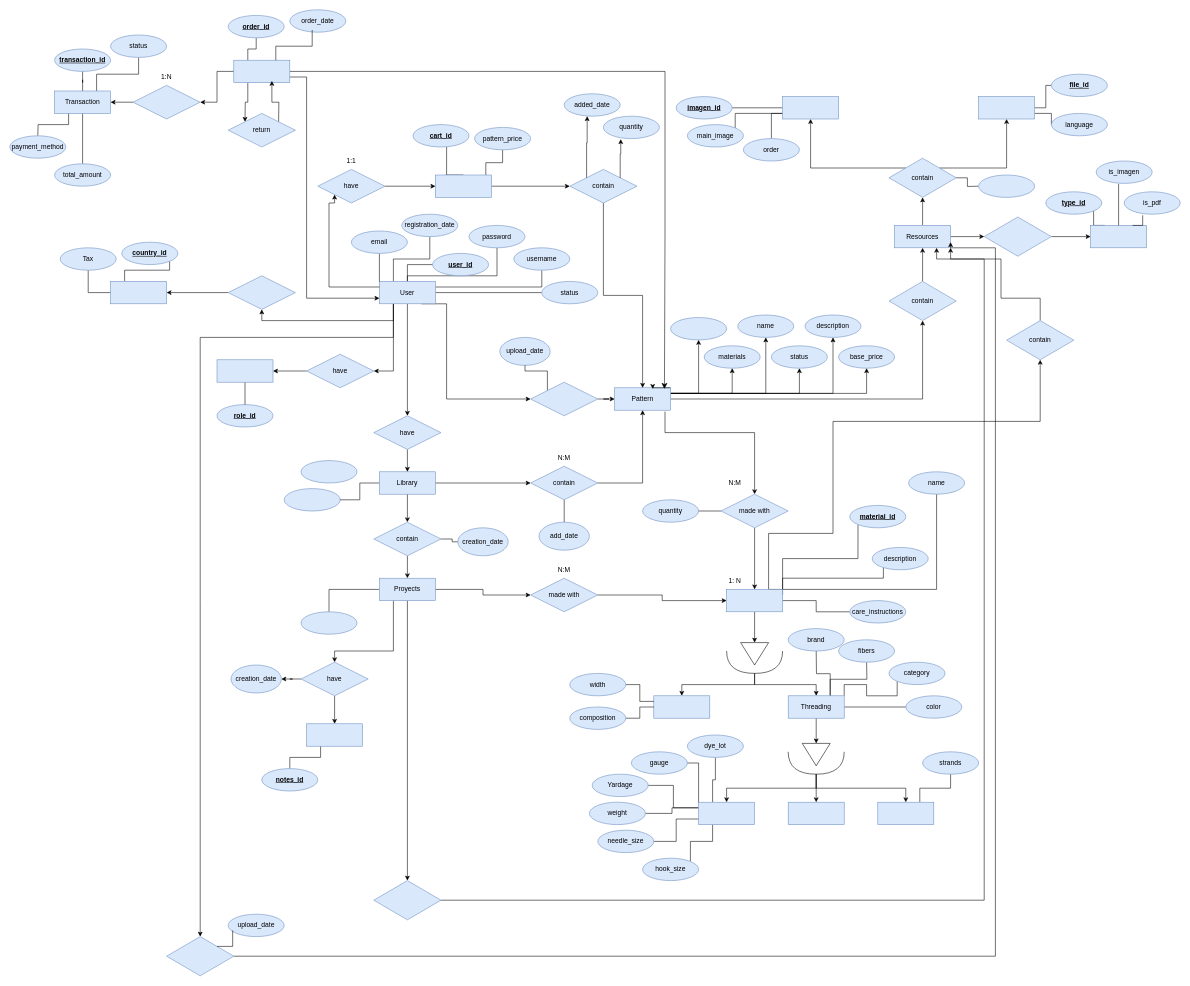
Some shapes in this 1190 by 986 pixel diagram are drawn without their labels. The shapes that lost their labels are listed below. From the top down, each one's centre as x and y in pixels, then its label:
the point at 261,71: Shopping order
the point at 166,102: generate
the point at 810,107: Images
the point at 1006,107: PDF_files
the point at 463,185: Shopping_Cart
the point at 1006,185: public
the point at 1017,236: can be
the point at 1118,236: Type_Resource
the point at 138,292: Country
the point at 261,292: belongs
the point at 698,328: pattern_id
the point at 244,370: Role
the point at 564,399: design
the point at 328,471: library_id
the point at 312,499: type
the point at 754,600: Material
the point at 328,622: proyect_id
the point at 681,706: Fabric
the point at 334,734: Notes
the point at 726,813: Yarn
the point at 816,813: Thread
the point at 905,813: Floss
the point at 407,900: contains
the point at 200,956: upload
